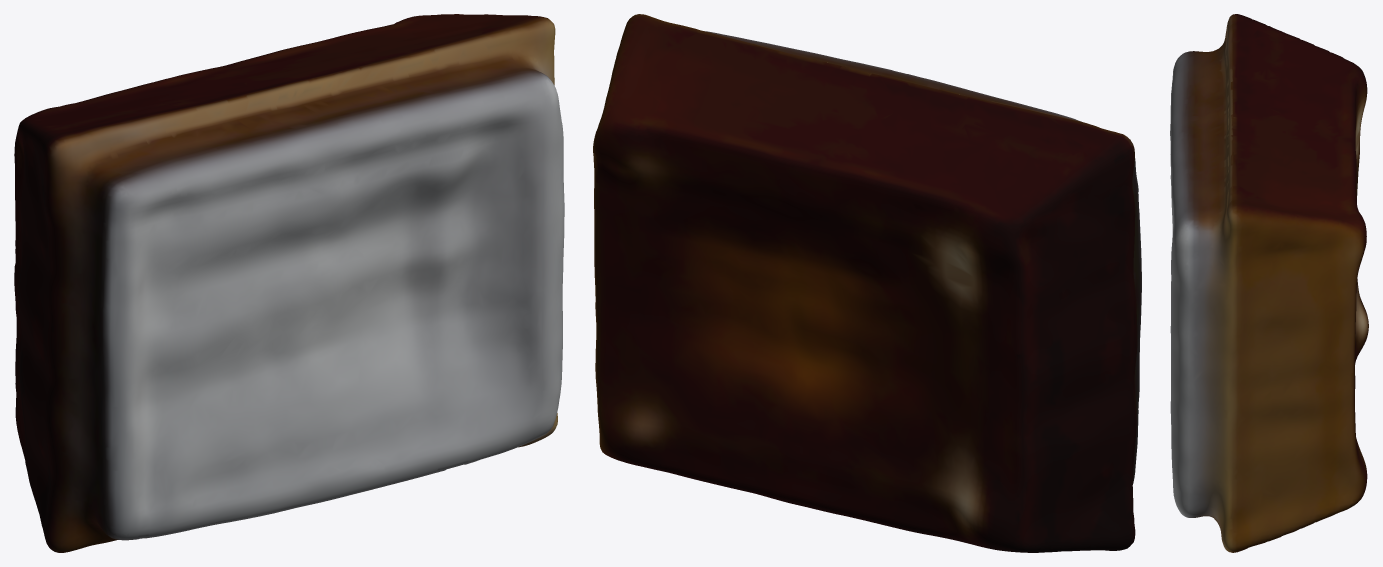
Rendered from soap.glb.
The picture shows the model from 3 angles, left to right: view 1: azimuth 30°, elevation 25°; view 2: azimuth 150°, elevation 25°; view 3: azimuth 270°, elevation 25°; orthographic projection. The views are drawn at different scales.
Size of the model in its own units: 0.9992 by 0.7917 by 0.4096.
